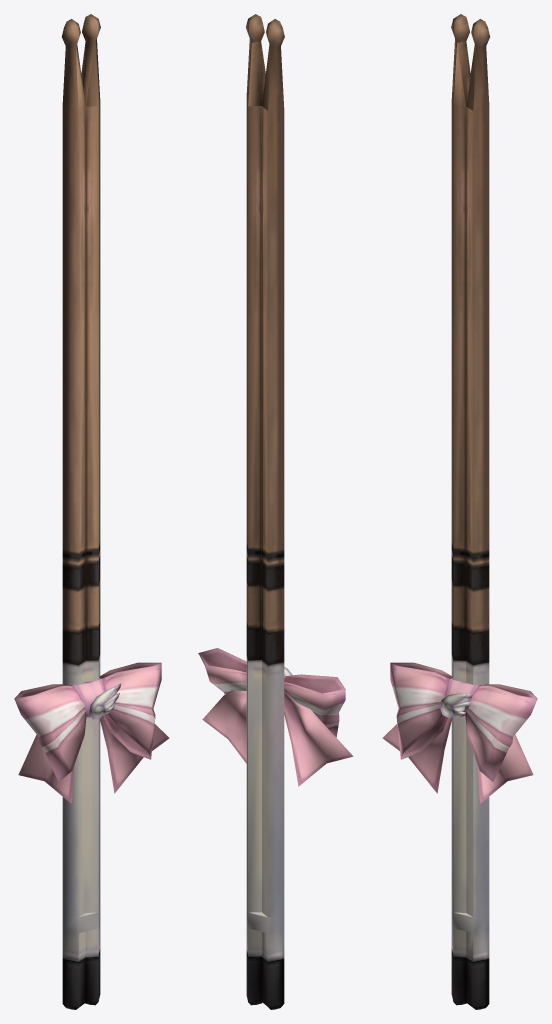
Rendered from Hero_Aselica_Cos20SL_Sword.fbx.
3 renders of one model, left to right at view 1: azimuth 30°, elevation 25°; view 2: azimuth 150°, elevation 25°; view 3: azimuth 330°, elevation 25°, orthographic.
Visible parts, largest first — view 1: Hero_Aselica_Cos20SL_Sword; view 2: Hero_Aselica_Cos20SL_Sword; view 3: Hero_Aselica_Cos20SL_Sword.
Boxes of the visible parts, box(x1,y1,x2,y2) form: Hero_Aselica_Cos20SL_Sword: box(14, 14, 169, 1009); Hero_Aselica_Cos20SL_Sword: box(198, 14, 353, 1009); Hero_Aselica_Cos20SL_Sword: box(382, 14, 537, 1009).
Size of the model in its own units: 0.2496 by 1.56 by 0.1031.
